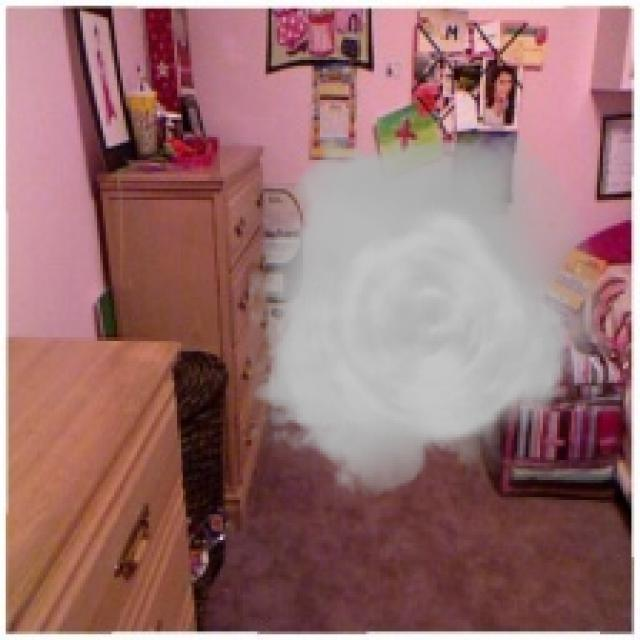Smoke: (248, 111, 603, 508)
